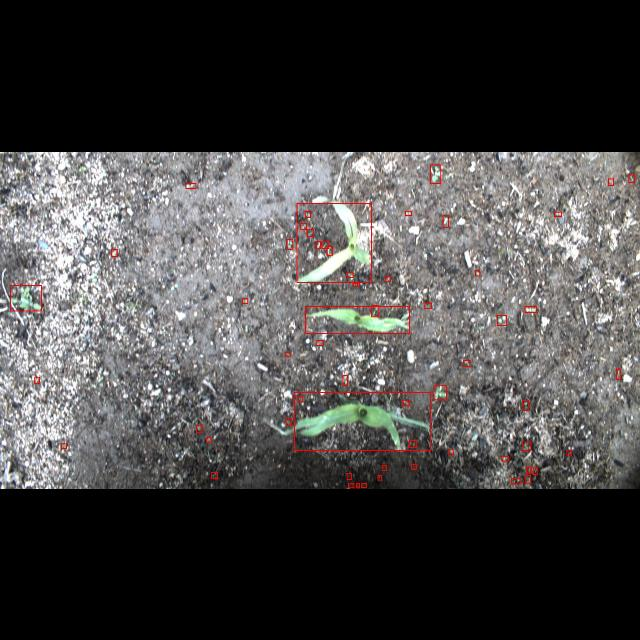crop: (294, 392, 431, 451), (296, 202, 372, 282), (306, 306, 410, 332)
weed: (10, 284, 42, 310), (431, 164, 441, 182), (434, 385, 446, 399), (498, 315, 507, 325), (286, 239, 294, 249), (523, 442, 531, 451), (443, 215, 449, 227), (306, 228, 314, 236), (523, 400, 529, 410), (342, 375, 348, 385), (526, 306, 536, 312), (186, 182, 196, 188), (372, 306, 378, 316), (409, 439, 416, 446), (512, 478, 520, 484), (196, 424, 202, 432), (402, 400, 410, 406), (34, 376, 40, 384), (424, 302, 432, 308), (554, 210, 562, 216), (322, 240, 328, 248), (629, 174, 635, 182), (616, 369, 620, 379), (346, 473, 352, 479), (211, 472, 217, 478), (566, 450, 572, 456), (206, 436, 212, 442), (464, 360, 470, 366), (474, 270, 480, 276), (608, 178, 614, 184), (300, 223, 306, 229), (526, 475, 530, 483), (316, 340, 324, 344), (112, 248, 116, 256), (404, 210, 412, 214), (316, 240, 320, 248), (328, 246, 332, 254), (378, 474, 382, 480), (534, 468, 538, 474), (526, 468, 532, 472), (382, 464, 386, 470), (502, 456, 508, 460), (448, 450, 454, 454), (286, 419, 290, 425), (298, 396, 302, 402), (242, 298, 248, 302), (353, 282, 359, 286), (347, 272, 353, 276), (348, 484, 354, 488), (306, 210, 310, 216), (356, 482, 359, 488), (412, 464, 416, 468), (62, 444, 66, 448), (286, 352, 290, 356), (386, 276, 390, 280), (362, 483, 366, 487)
